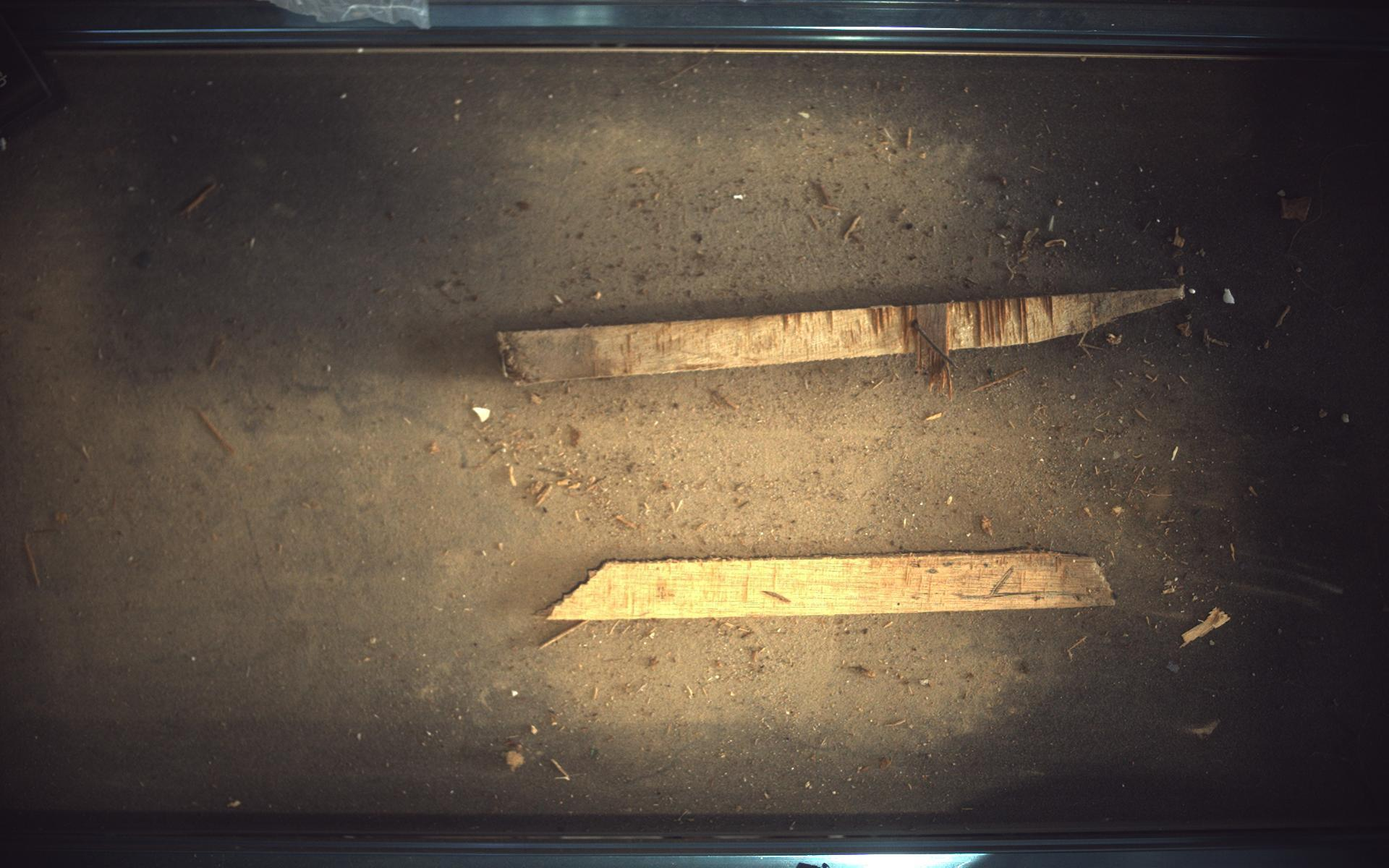wood: (498, 285, 1188, 393), (548, 552, 1117, 623)
